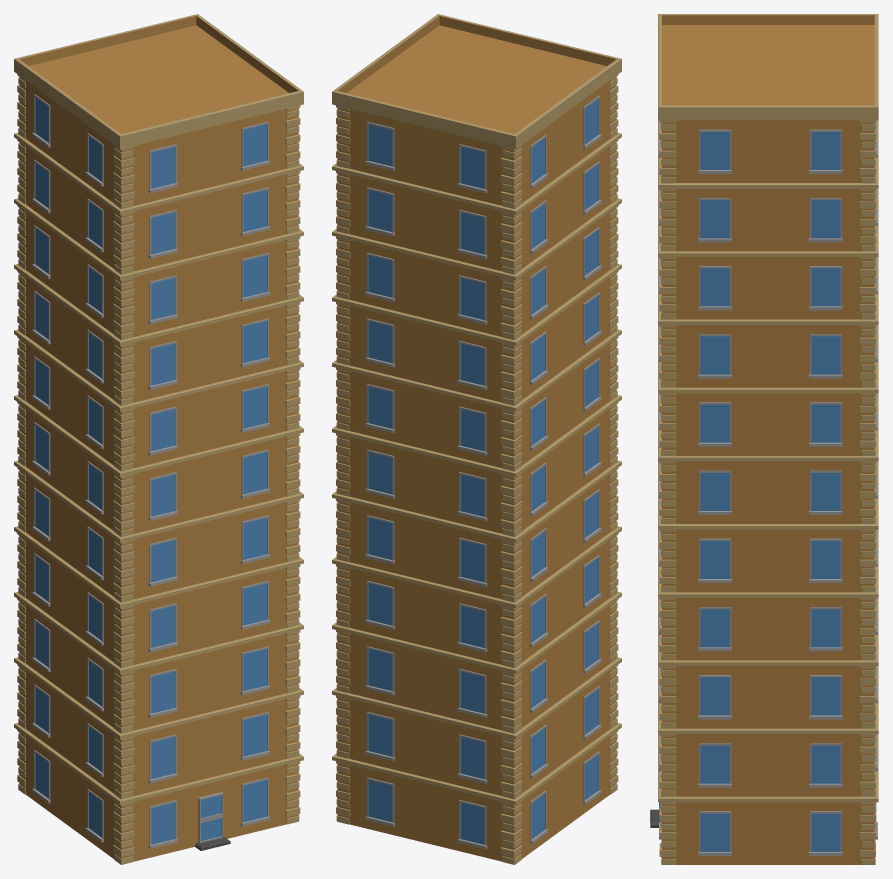
The model's file is GebouwGeelHoogZonderTrap.fbx.
The picture shows the model from 3 angles, left to right: view 1: azimuth 30°, elevation 25°; view 2: azimuth 150°, elevation 25°; view 3: azimuth 270°, elevation 25°; orthographic projection. The views are drawn at different scales.
Parts seen in each view (by area): view 1: gebouwGeelHoogZonderTrap; view 2: gebouwGeelHoogZonderTrap; view 3: gebouwGeelHoogZonderTrap.
Part boxes in pixels (<box>): gebouwGeelHoogZonderTrap: <box>14,14,303,864</box>; gebouwGeelHoogZonderTrap: <box>332,14,621,864</box>; gebouwGeelHoogZonderTrap: <box>650,14,878,864</box>.
Size of the model in its own units: 622 by 2364 by 644.
